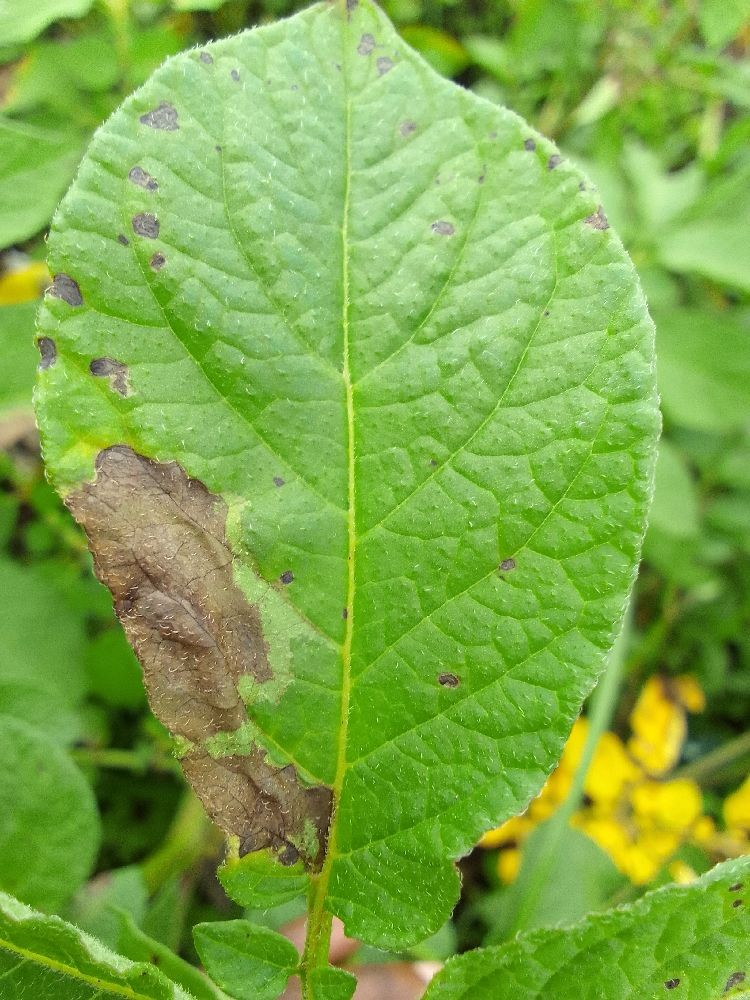late_blight: (50, 428, 354, 904), (549, 637, 750, 891), (317, 909, 441, 1000), (170, 0, 280, 52)
